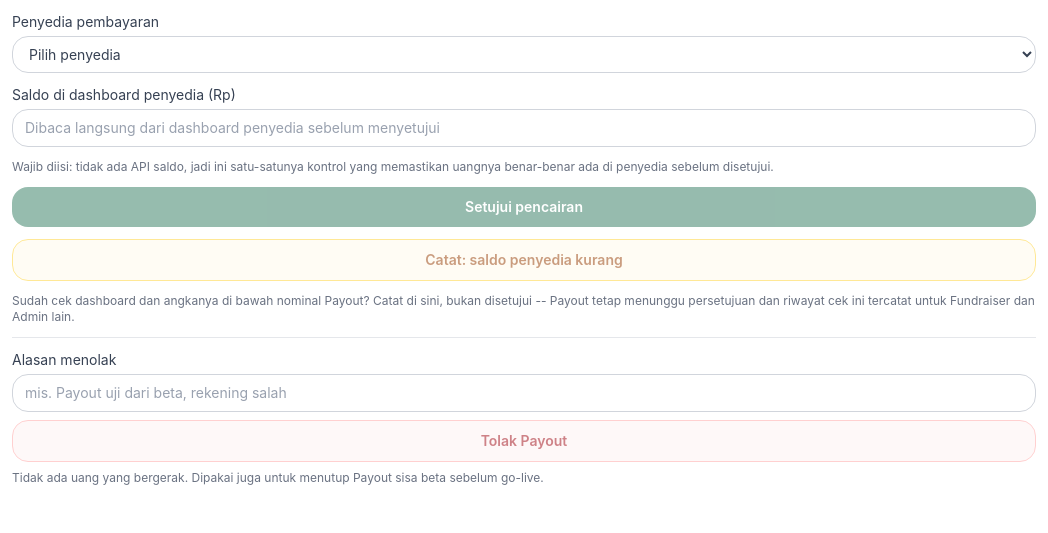
AdminPayoutActionForm -- approving a DRAFT Payout (ticket 02: provider balance is the gate) › shows the server refusal in its own words rather than a generic message
The image size is (1048, 533).
Select "sumopod" in the dropdown labelled "Penyedia pembayaran" at (524, 54), box [12, 36, 1036, 73]
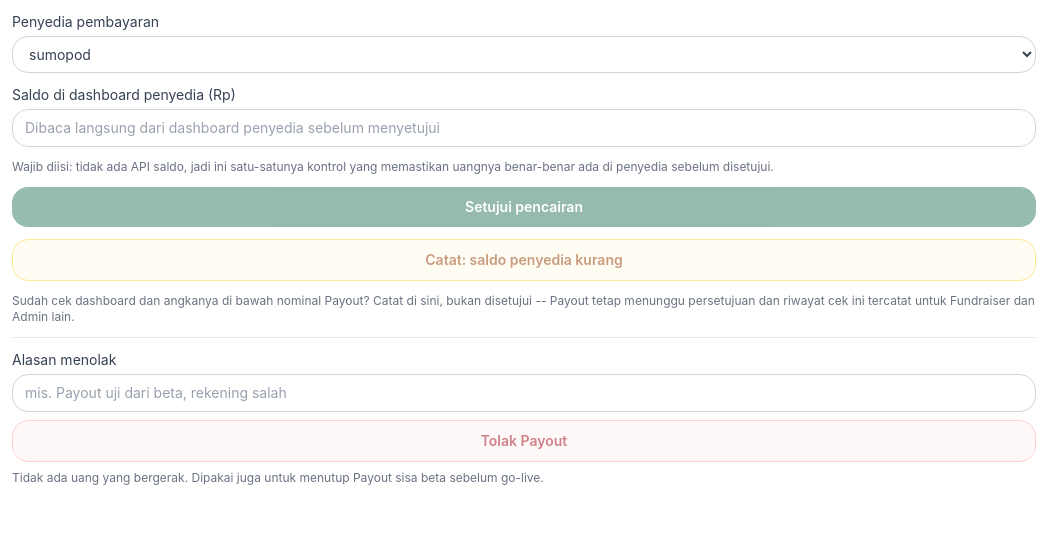
Type "1000" into the field labelled "Saldo di dashboard penyedia (Rp)" at (524, 128), box [12, 109, 1036, 147]
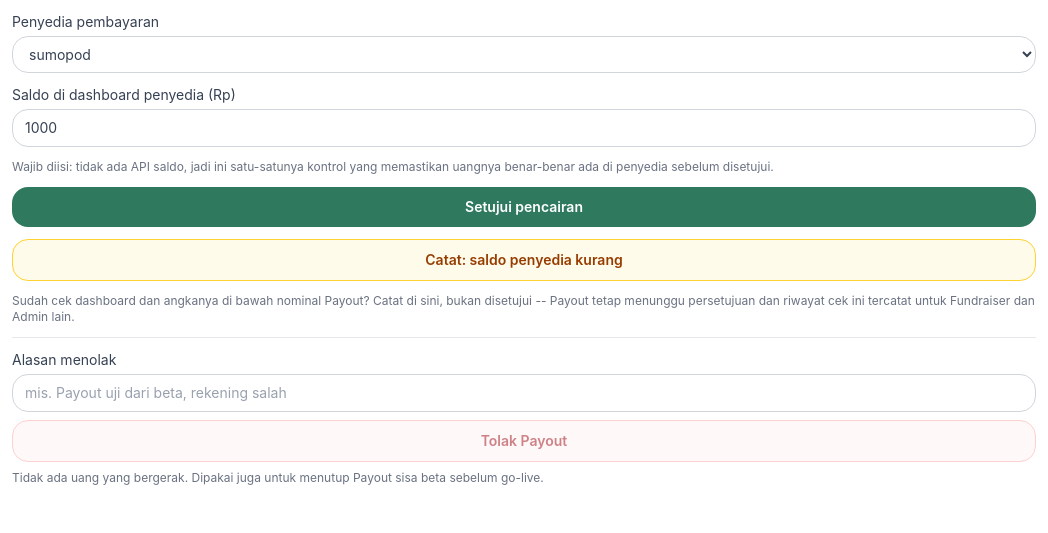
Click the button "Setujui pencairan" at (524, 207), box [12, 187, 1036, 227]
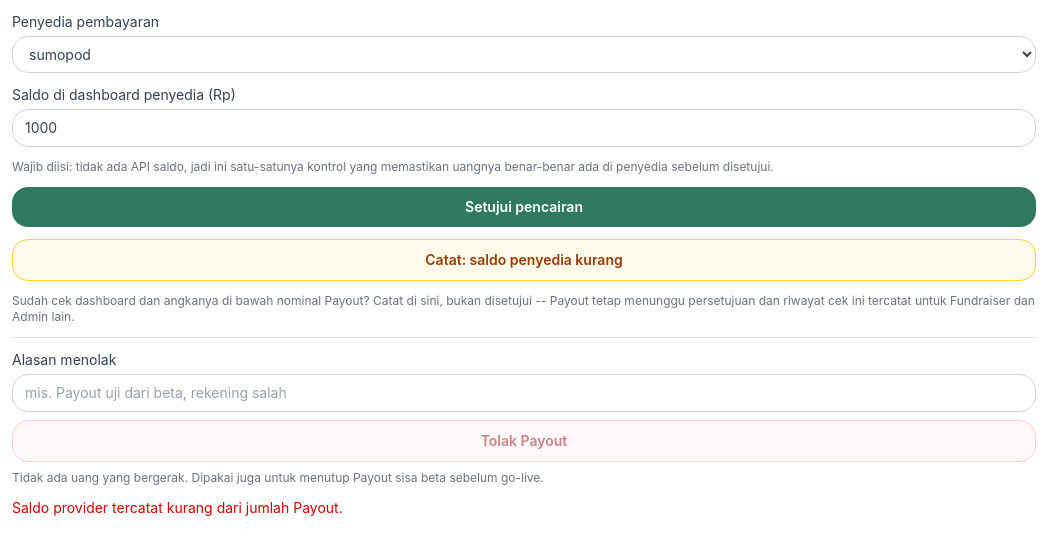
Expected: the message reads "Saldo provider tercatat kurang dari jumlah Payout.", [12, 499, 343, 516]
